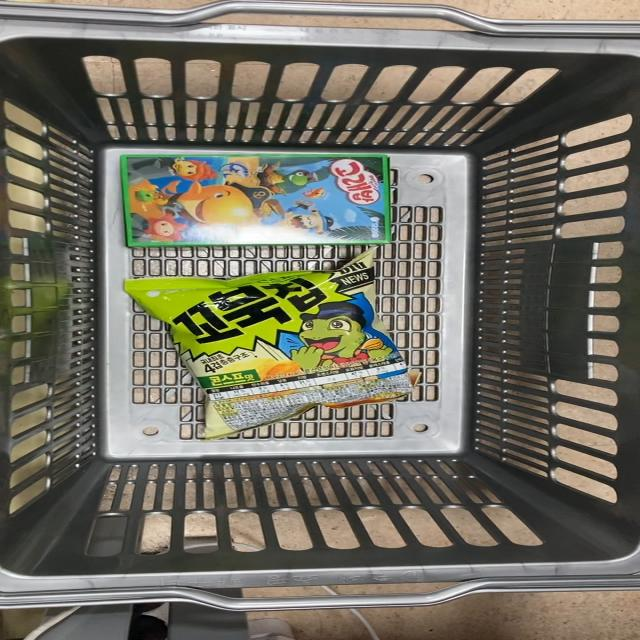ggobukchip: (108, 250, 428, 428)
goraebob: (96, 133, 399, 249)
